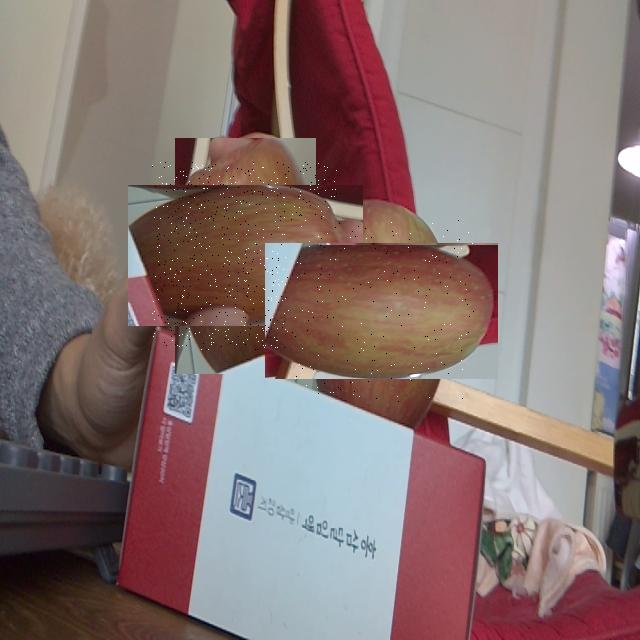apple: (151, 162, 340, 350), (289, 219, 474, 403)
